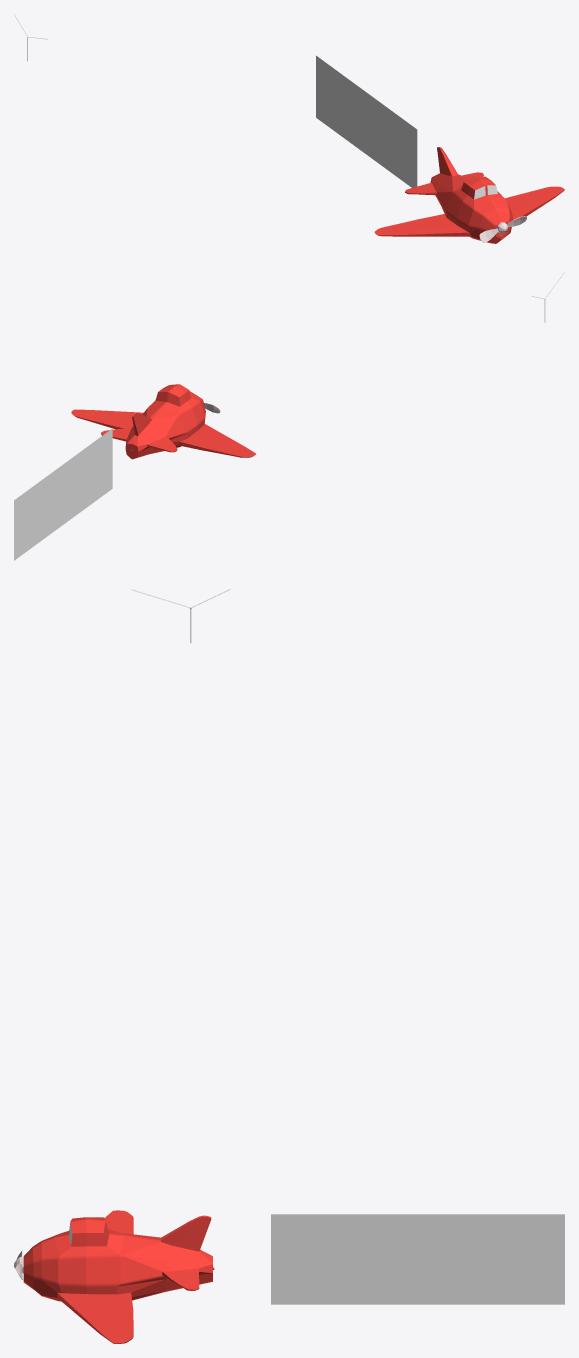
File: airplaneAndBanner.glb
3 renders of one model, top to bottom at view 1: azimuth 30°, elevation 25°; view 2: azimuth 150°, elevation 25°; view 3: azimuth 270°, elevation 25°, orthographic. The views are drawn at different scales.
Parts seen in each view (by area): view 1: Plane, Banner, propeller; view 2: Plane, Banner; view 3: Banner, Plane.
Part boxes in pixels (<box>): Plane: <box>374,147,564,243</box>; Banner: <box>316,55,417,187</box>; propeller: <box>479,216,526,242</box>; Plane: <box>71,384,255,459</box>; Banner: <box>14,428,112,560</box>; Banner: <box>271,1214,564,1304</box>; Plane: <box>23,1210,214,1343</box>.
Bounding box in the file's own units: 8.59 × 4.65 × 5.53.
